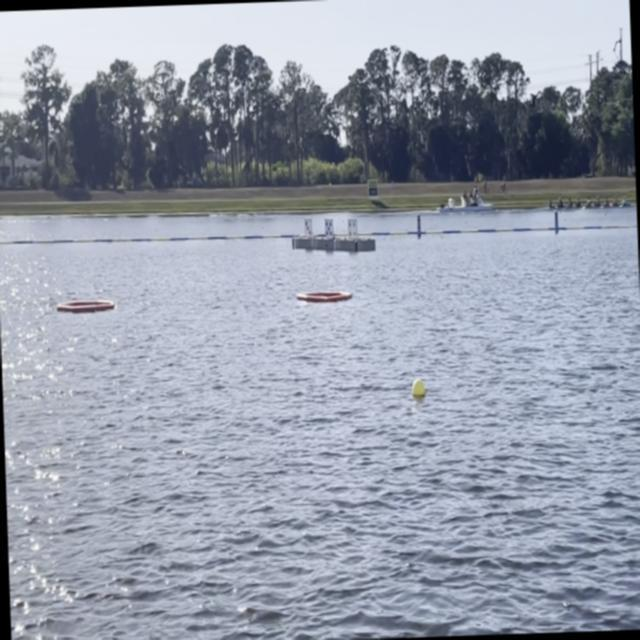buoy: (411, 376, 426, 397)
